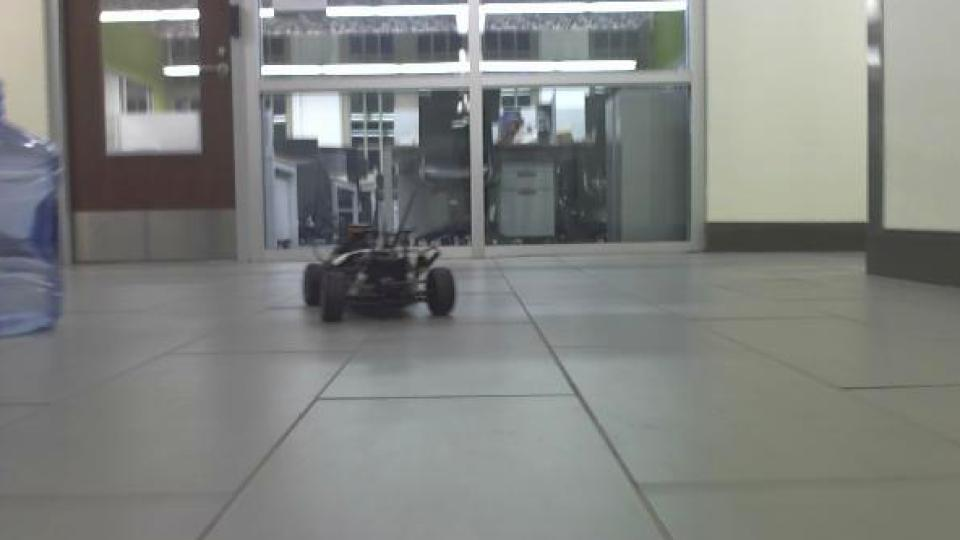car: (300, 223, 461, 325)
